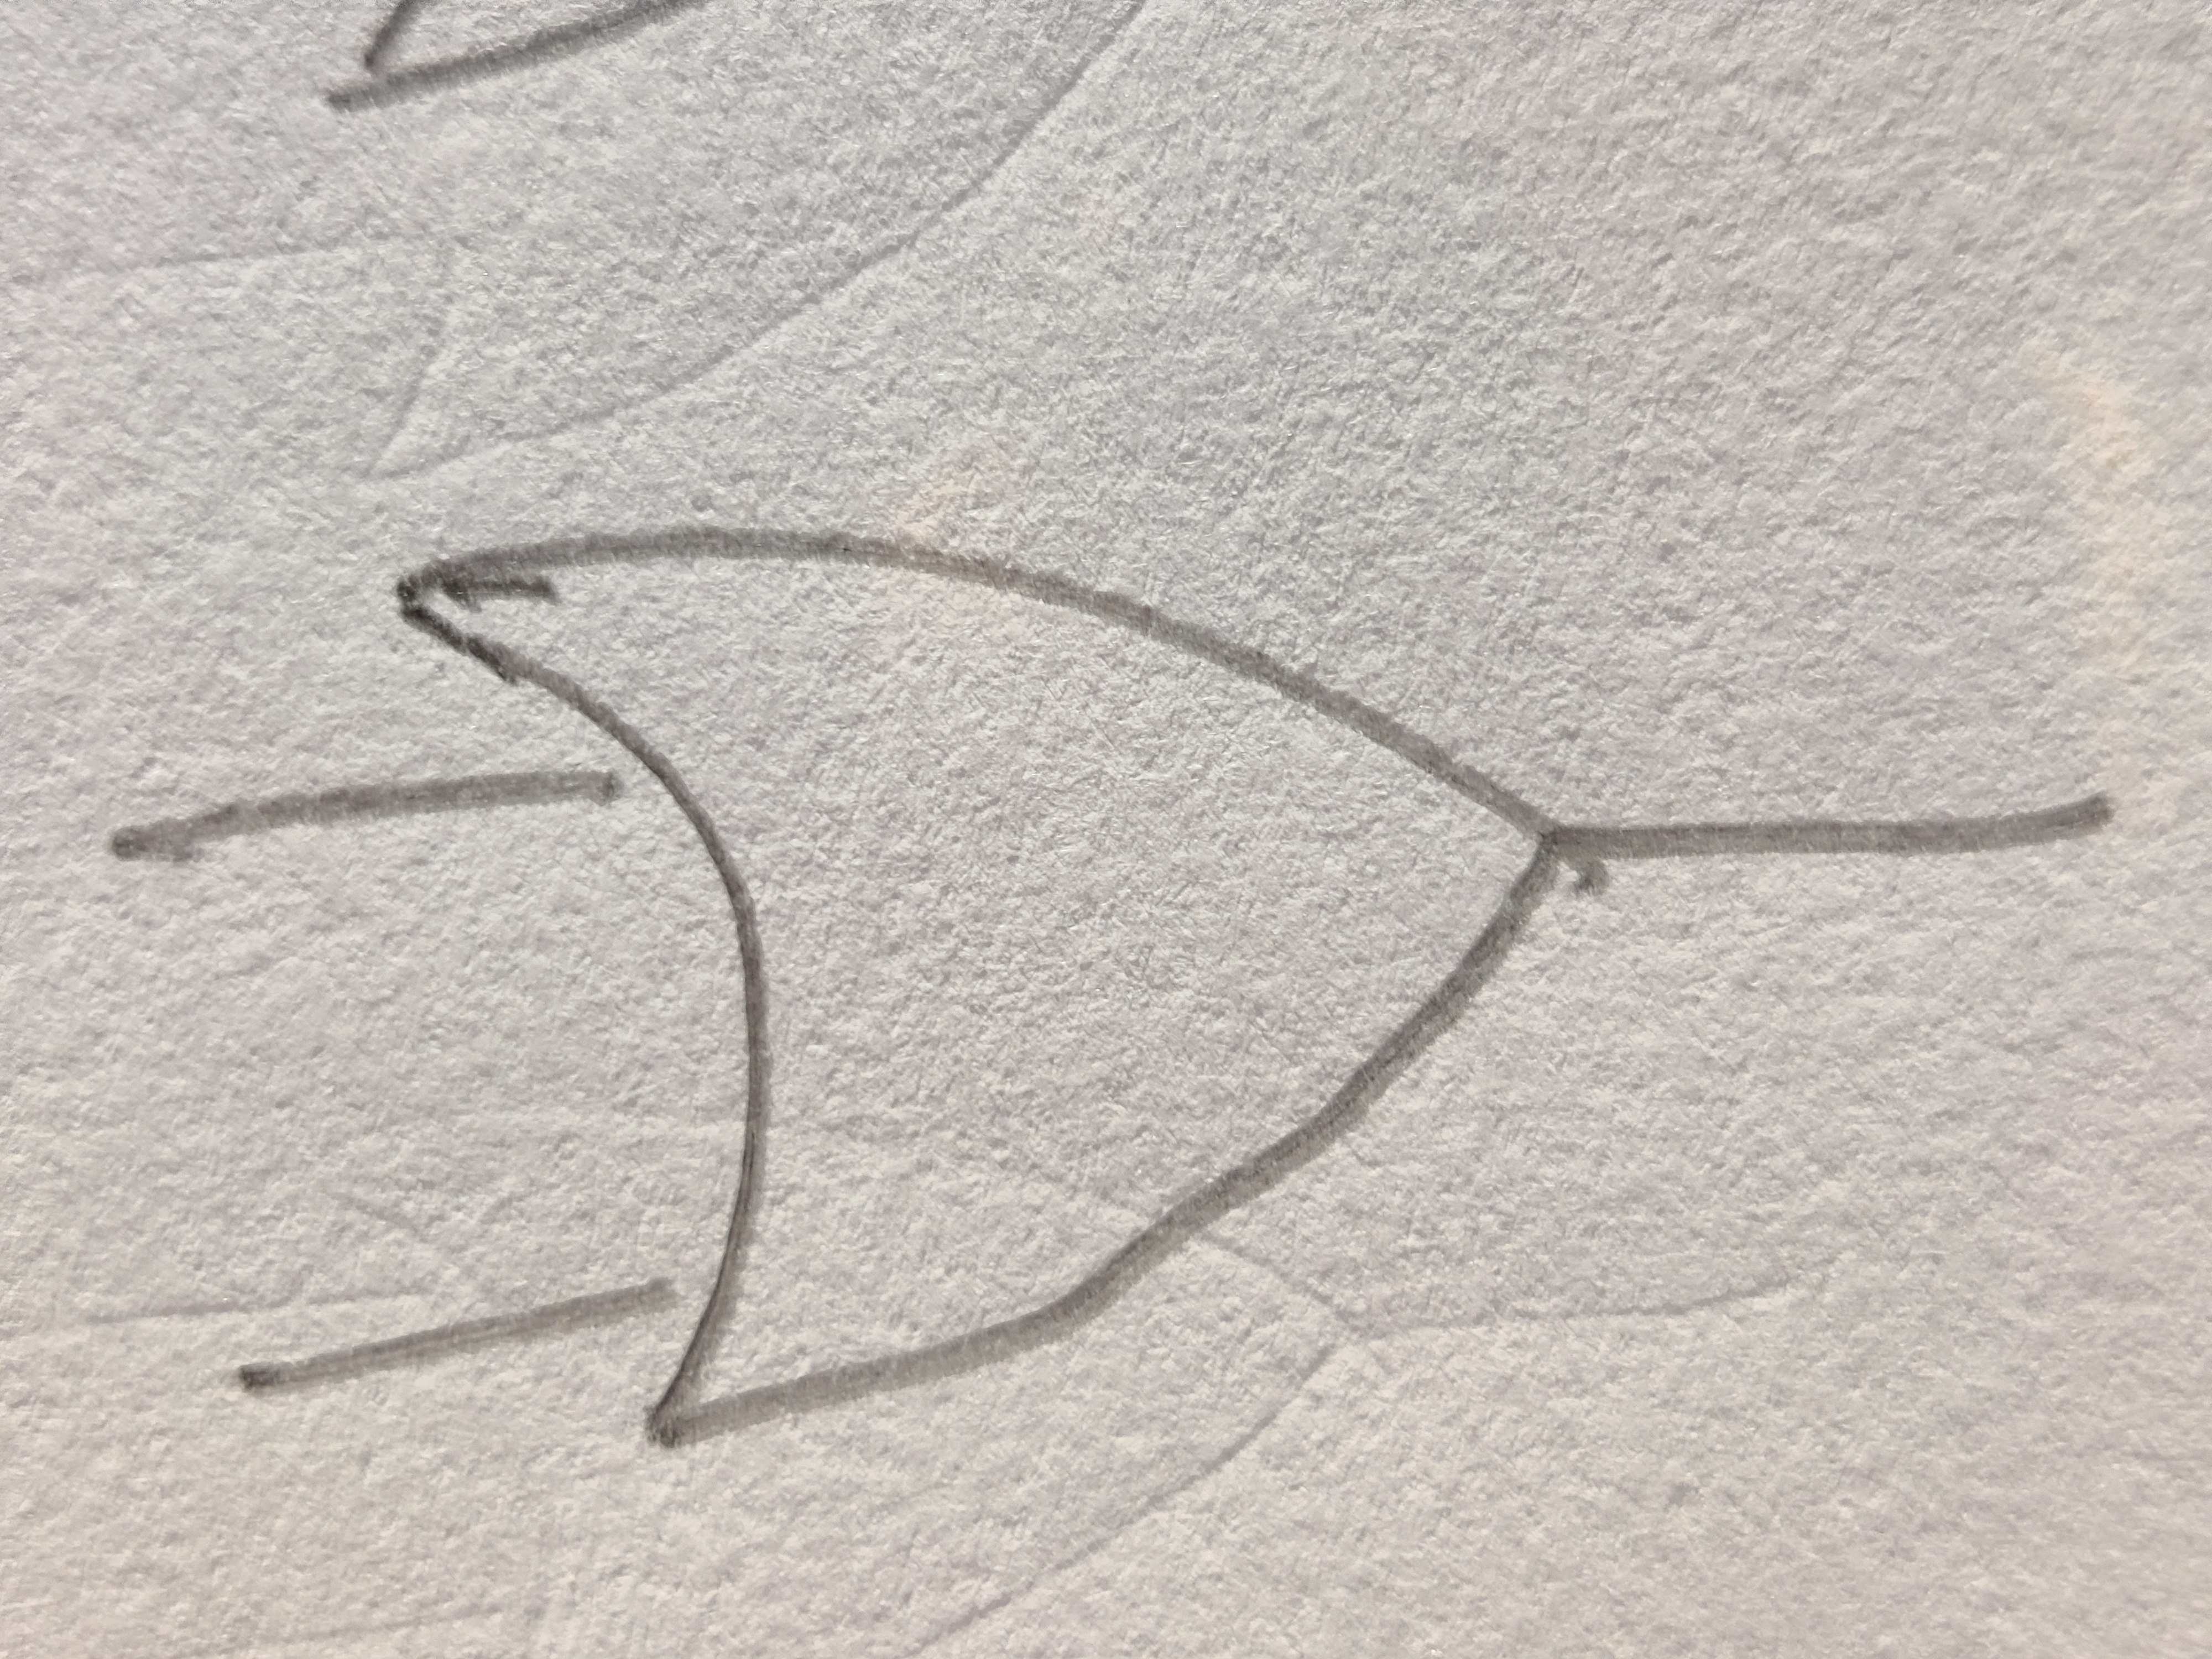or: (399, 526, 1564, 1453)
